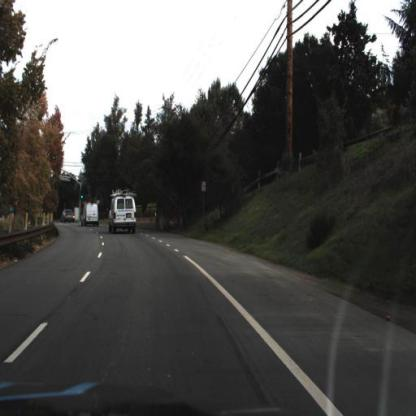car: (107, 192, 140, 232), (82, 202, 102, 225), (62, 206, 76, 222)
trafficLight-Green: (78, 190, 86, 210)
